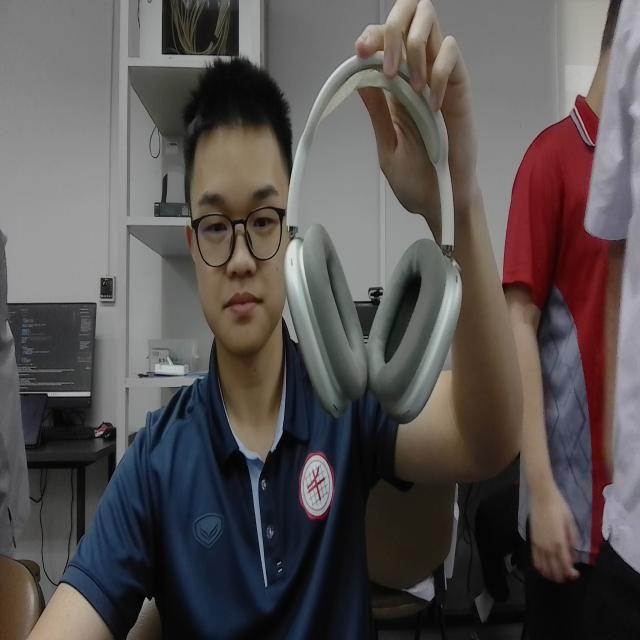airpods max: (272, 34, 474, 446)
